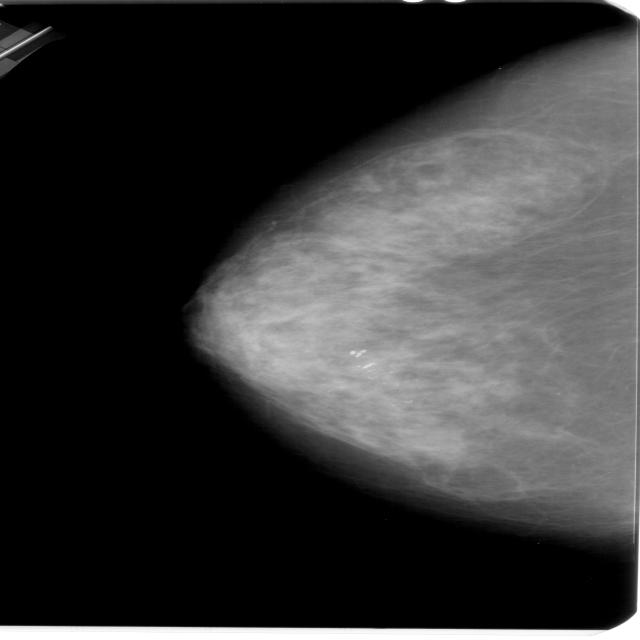cancer: (217, 144, 587, 478)
